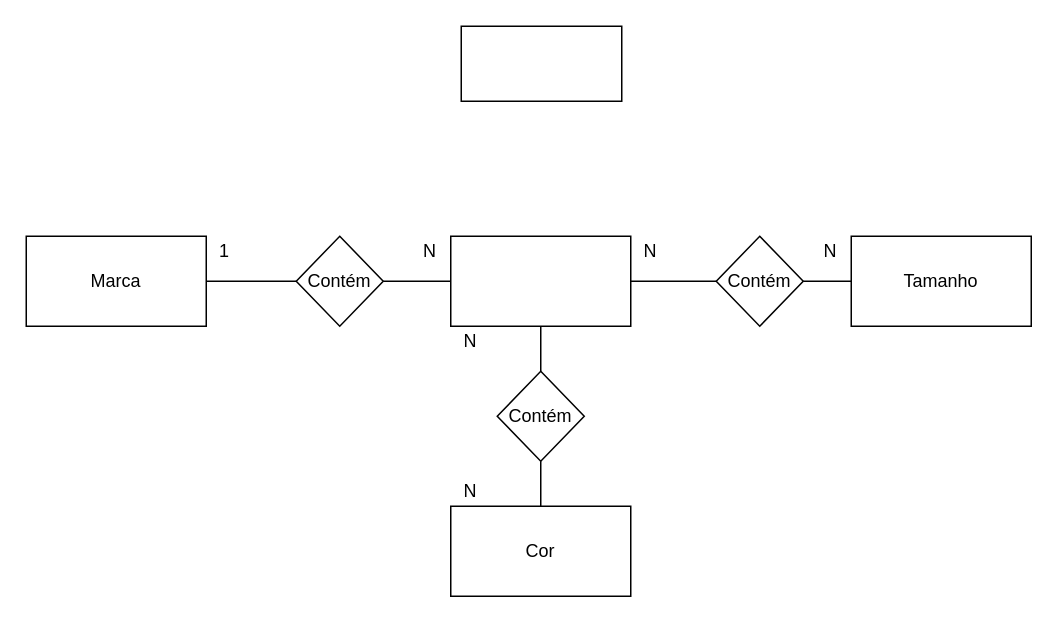
Some shapes in this 1058 by 623 pixel diagram are drawn without their labels. The centre of each missing label's shape, as x and y in pixels:
"Camiseta" belongs at pixel 540 280.
"CONCEITUAL" belongs at pixel 541 63.
